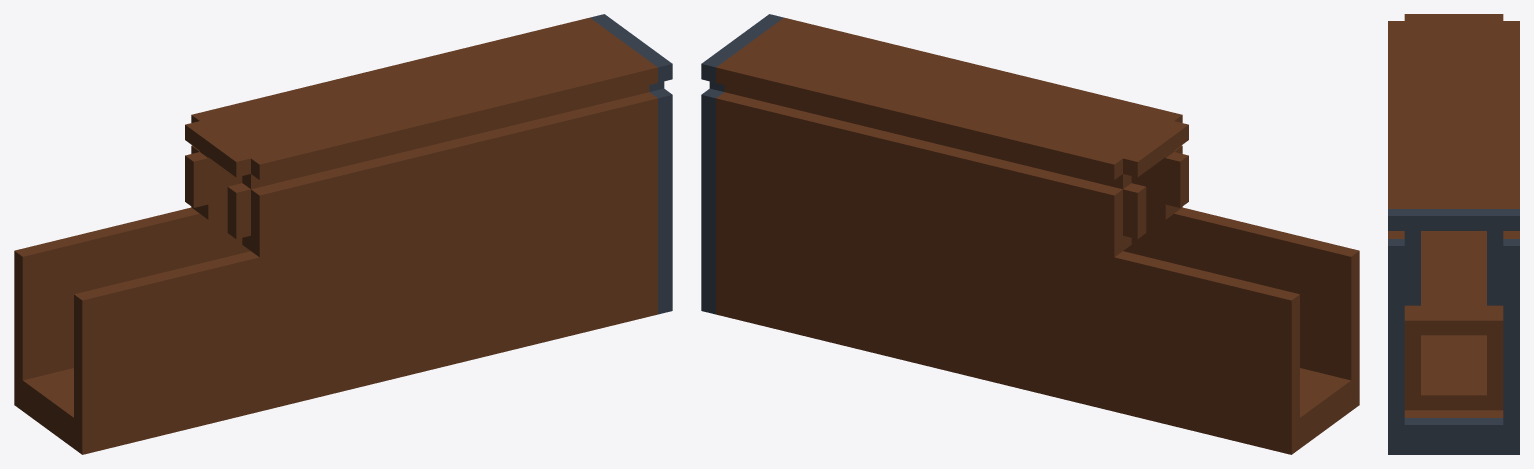
The model's file is handguard_ak.glb.
3 views of the same model, side by side, from view 1: azimuth 30°, elevation 25°; view 2: azimuth 150°, elevation 25°; view 3: azimuth 270°, elevation 25° (orthographic). The views are drawn at different scales.
Parts seen in each view (by area): view 1: handguard_ak:handguard; view 2: handguard_ak:handguard; view 3: handguard_ak:handguard.
Boxes of the visible parts, x1,y1,x2,y2 form: handguard_ak:handguard: (14,14,672,454); handguard_ak:handguard: (701,14,1359,454); handguard_ak:handguard: (1388,14,1519,454).
Size of the model in its own units: 0.16 by 0.064 by 0.032.
